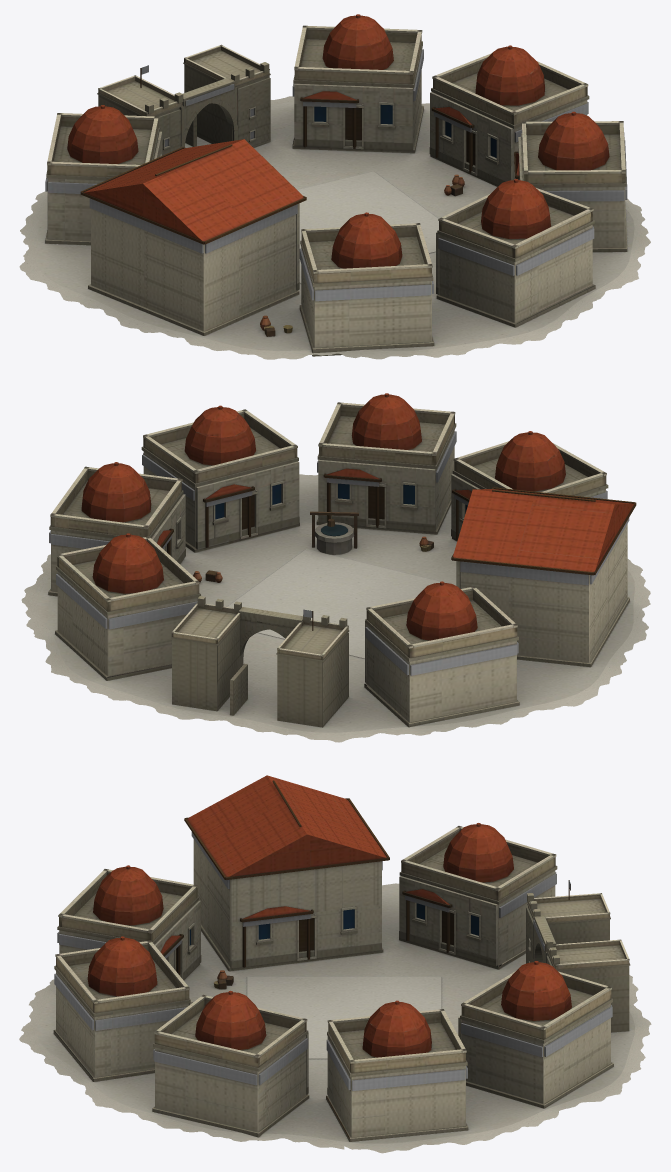
The model's file is gunpowder-town-small-b-israelite.glb.
3 renders of one model, top to bottom at view 1: azimuth 30°, elevation 25°; view 2: azimuth 150°, elevation 25°; view 3: azimuth 270°, elevation 25°, orthographic.
Parts seen in each view (by area): view 1: LOD0; view 2: LOD0; view 3: LOD0.
Part boxes in pixels (<box>): LOD0: <box>19,14,650,359</box>; LOD0: <box>21,393,650,742</box>; LOD0: <box>19,775,651,1153</box>.
Size of what is drawn, in the model's own units: 4.03 by 0.9327 by 3.97.
3 materials, 3 textured.
